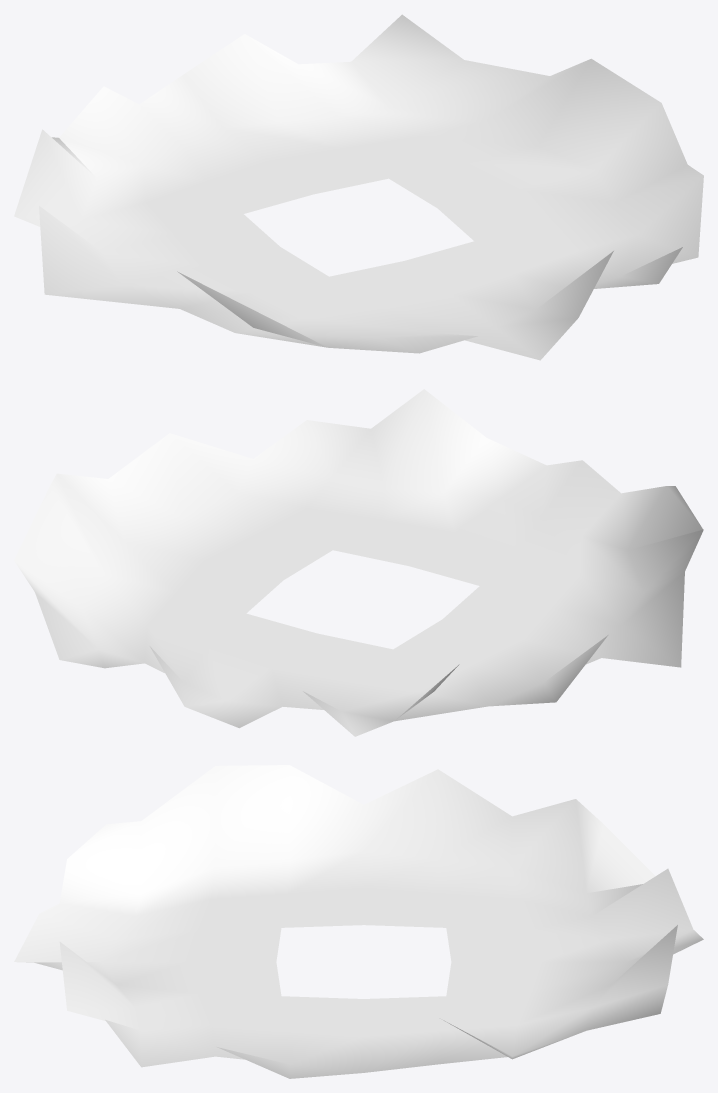
Rendered from MOUNT.glb.
3 renders of one model, top to bottom at view 1: azimuth 30°, elevation 25°; view 2: azimuth 150°, elevation 25°; view 3: azimuth 270°, elevation 25°, orthographic. The views are drawn at different scales.
Visible parts, largest first — view 1: FRAME_ROOT; view 2: FRAME_ROOT; view 3: FRAME_ROOT.
Part boxes in pixels (box(x1,y1,x2,y2)): FRAME_ROOT: box(14, 14, 703, 360); FRAME_ROOT: box(14, 389, 703, 736); FRAME_ROOT: box(14, 765, 703, 1078).
Size of the model in its own units: 866 by 103 by 870.
1 material, 1 textured.
